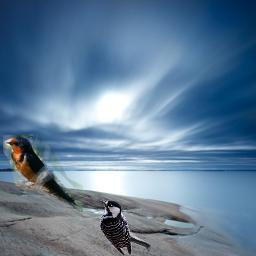Swallow: (3, 134, 83, 212)
Woodpecker: (97, 198, 151, 255)
